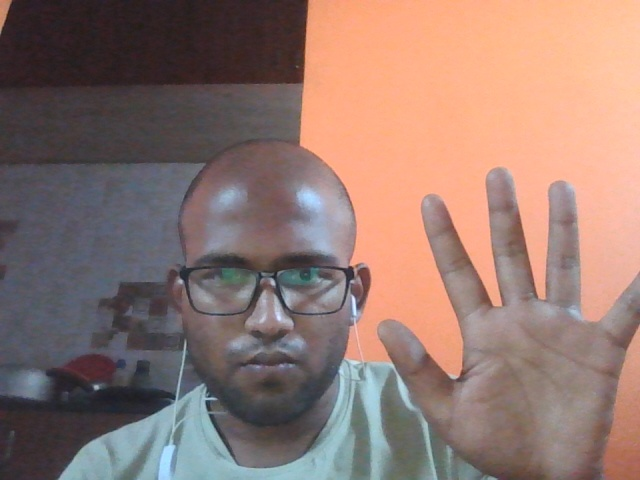hello: (367, 158, 640, 480)
